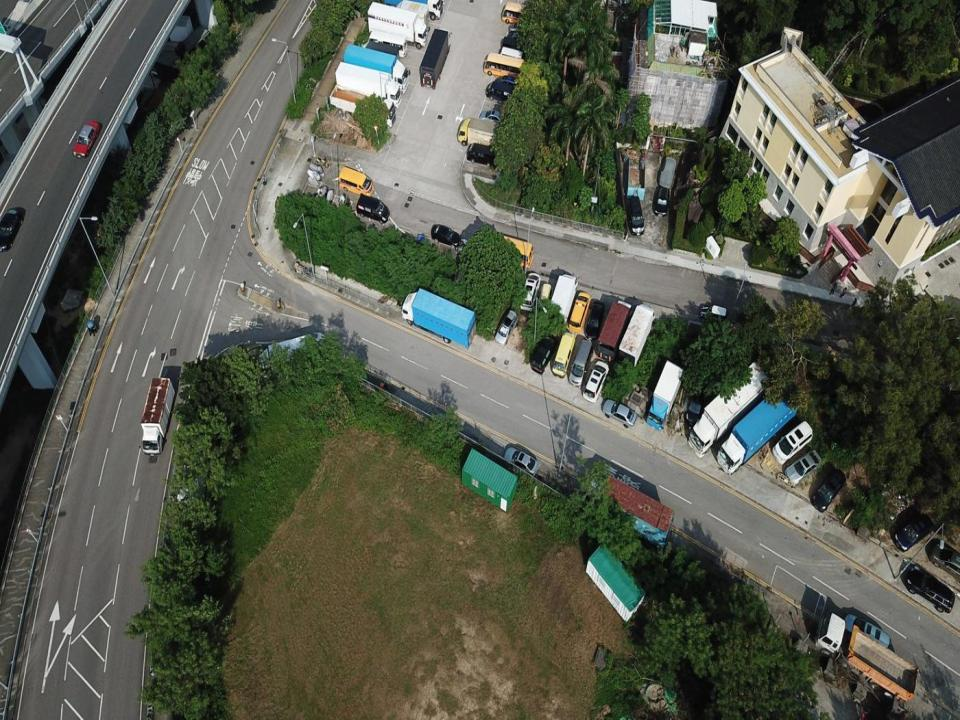bus: (488, 233, 534, 269), (365, 30, 408, 59), (483, 52, 524, 80), (501, 1, 538, 26)
car: (905, 567, 956, 614), (842, 613, 890, 653), (772, 420, 814, 465), (894, 512, 934, 552), (812, 467, 847, 512), (785, 450, 822, 486), (928, 543, 960, 584), (530, 330, 558, 374), (582, 360, 609, 403), (71, 120, 100, 158), (602, 398, 638, 428), (504, 446, 538, 477), (0, 207, 23, 252), (356, 195, 390, 224), (684, 384, 706, 426), (494, 309, 518, 347), (569, 292, 591, 332), (520, 272, 541, 312), (585, 301, 605, 340), (627, 195, 645, 236), (430, 224, 460, 248), (699, 304, 729, 326), (658, 156, 678, 189), (538, 283, 554, 315), (654, 186, 670, 216), (479, 109, 507, 126), (508, 22, 532, 38), (494, 75, 520, 89), (505, 30, 528, 44)
truck: (814, 611, 919, 703), (688, 361, 771, 459), (716, 384, 799, 475), (586, 474, 674, 553), (401, 288, 477, 349), (343, 43, 411, 94), (334, 62, 402, 109), (366, 1, 430, 49), (329, 82, 396, 127), (138, 376, 175, 456), (646, 359, 684, 431), (618, 303, 658, 369), (597, 298, 632, 363), (419, 26, 453, 90), (548, 271, 580, 326), (457, 117, 507, 151), (357, 41, 400, 70), (383, 0, 443, 20), (392, 0, 430, 29)
van: (569, 338, 593, 388), (338, 166, 374, 197), (552, 332, 575, 378), (485, 80, 520, 104), (466, 143, 499, 167), (498, 46, 524, 66), (502, 36, 525, 53)
